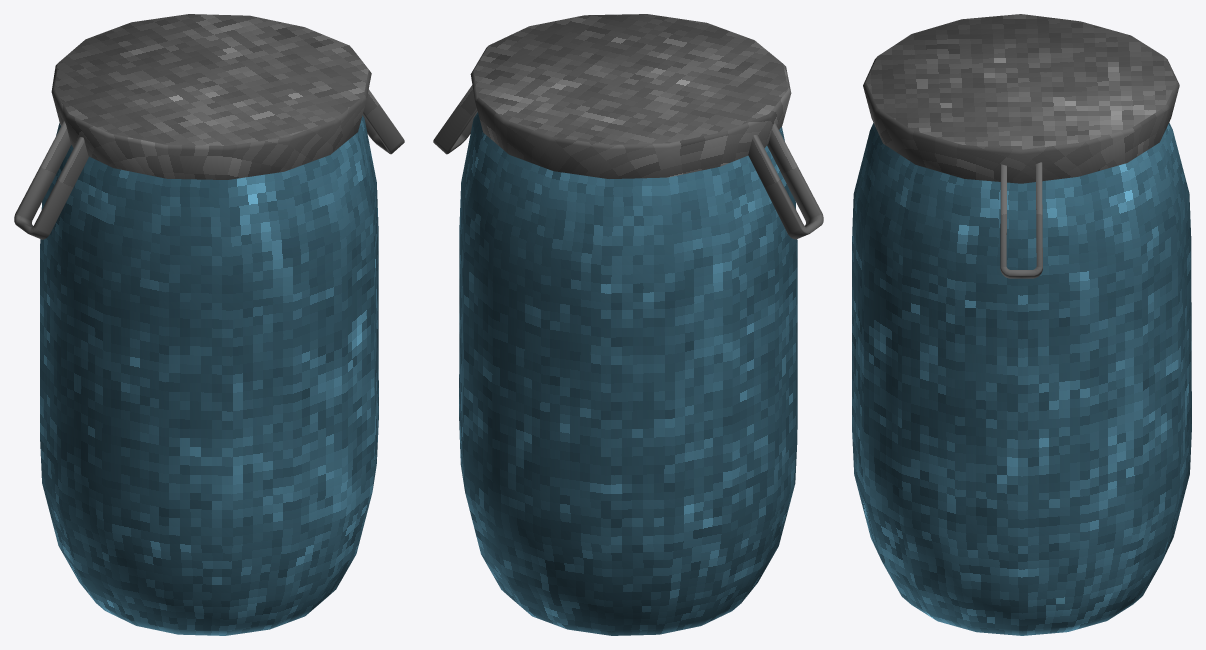
Rendered from plasticBarrel.glb.
3 renders of one model, left to right at view 1: azimuth 30°, elevation 25°; view 2: azimuth 150°, elevation 25°; view 3: azimuth 270°, elevation 25°, orthographic.
Visible parts, largest first — view 1: Plane; view 2: Plane; view 3: Plane.
Boxes of the visible parts, x1,y1,x2,y2 form: Plane: [14, 14, 404, 635]; Plane: [433, 14, 823, 635]; Plane: [852, 14, 1191, 635].
Bounding box in the file's own units: 1.89 × 2.44 × 1.49.
Materials: 2 (2 with a texture image).
